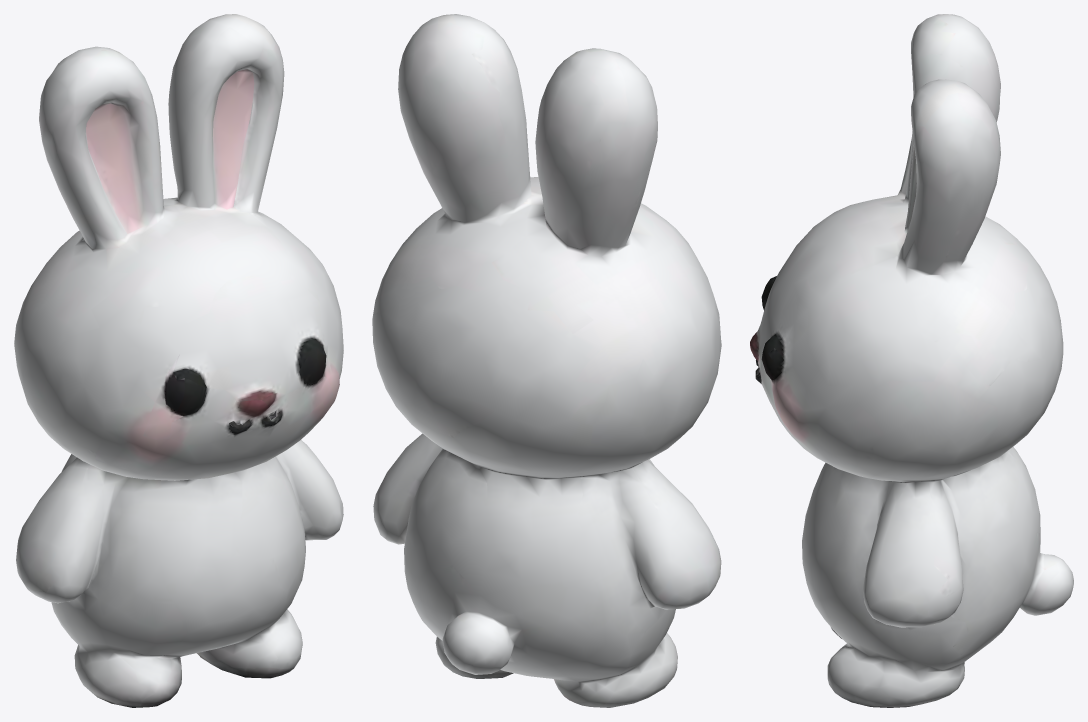
Rendered from hare.glb.
3 views of the same model, side by side, from view 1: azimuth 30°, elevation 25°; view 2: azimuth 150°, elevation 25°; view 3: azimuth 270°, elevation 25° (orthographic). The views are drawn at different scales.
Bounding box in the file's own units: 0.5266 × 1.01 × 0.4811.
Materials: 1 (1 with a texture image).
